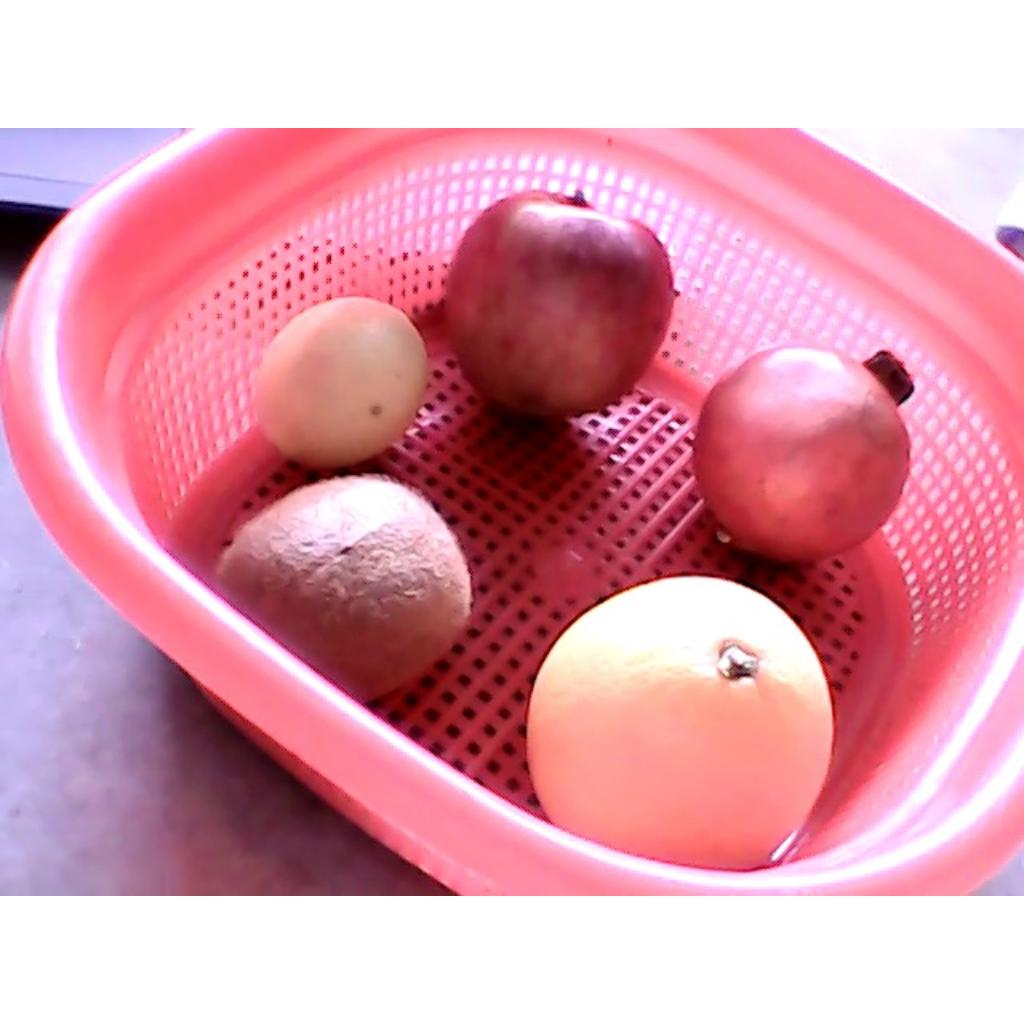apple: (443, 190, 676, 418)
kiwi: (214, 474, 471, 704)
lemon: (254, 298, 428, 470)
orange: (528, 574, 835, 871)
pomegranate: (693, 342, 917, 564)
